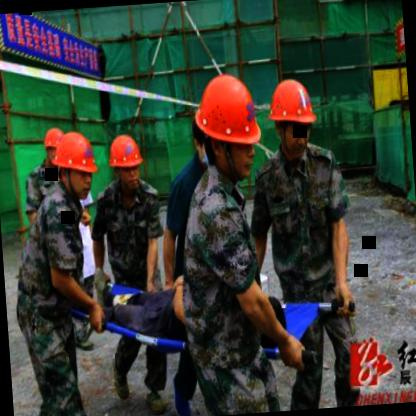helmet: (193, 70, 266, 180), (266, 74, 321, 162), (50, 126, 99, 200), (105, 131, 146, 195), (40, 122, 66, 172)
